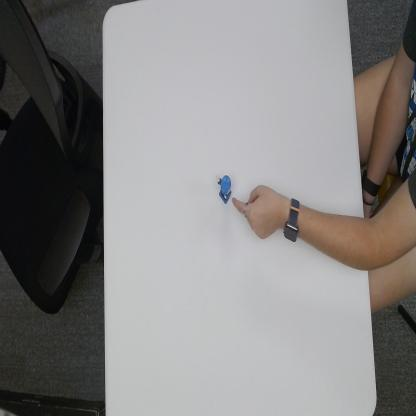Arm: (304, 202, 370, 274)
Hand: (231, 182, 281, 241)
